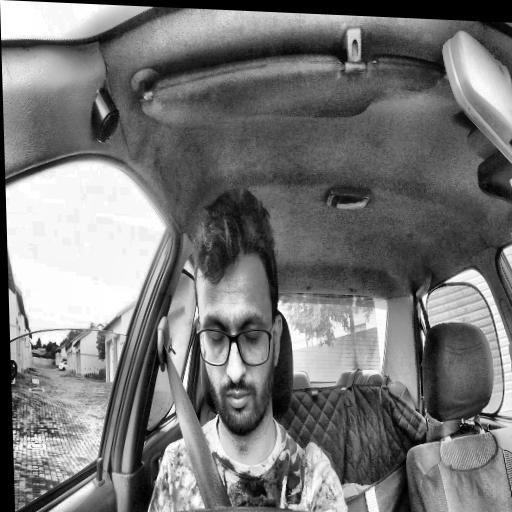drowsy: (192, 183, 287, 439)
